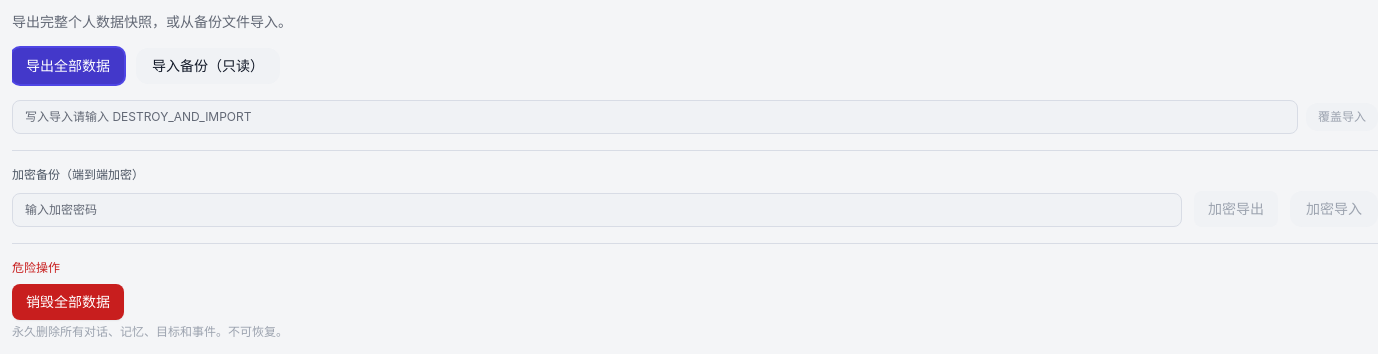
Test: DataSovereigntyCard › does not steal focus after 导出全部数据 returns
Click the button "导出全部数据".
click(68, 66)  # box [12,48,124,84]
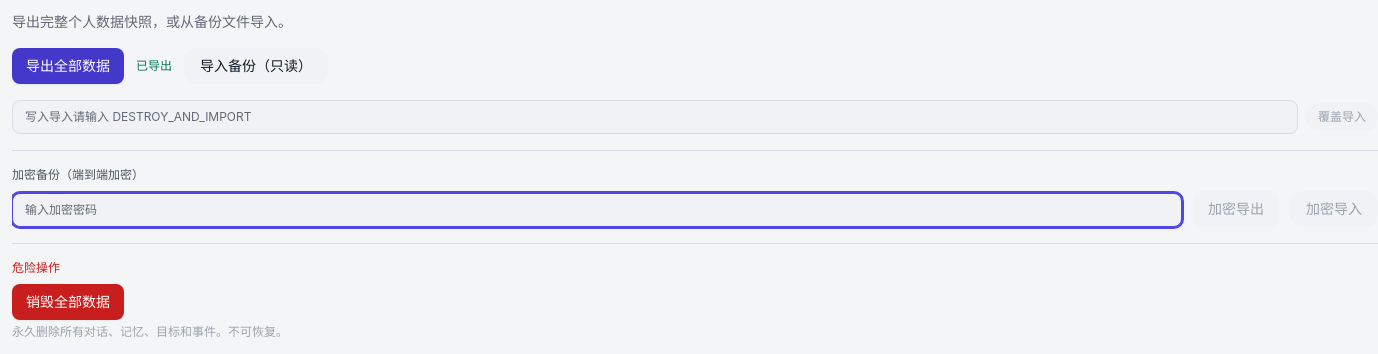
Check: the message with test id "export-notice" reads "已导出", box [136,58,172,73]
